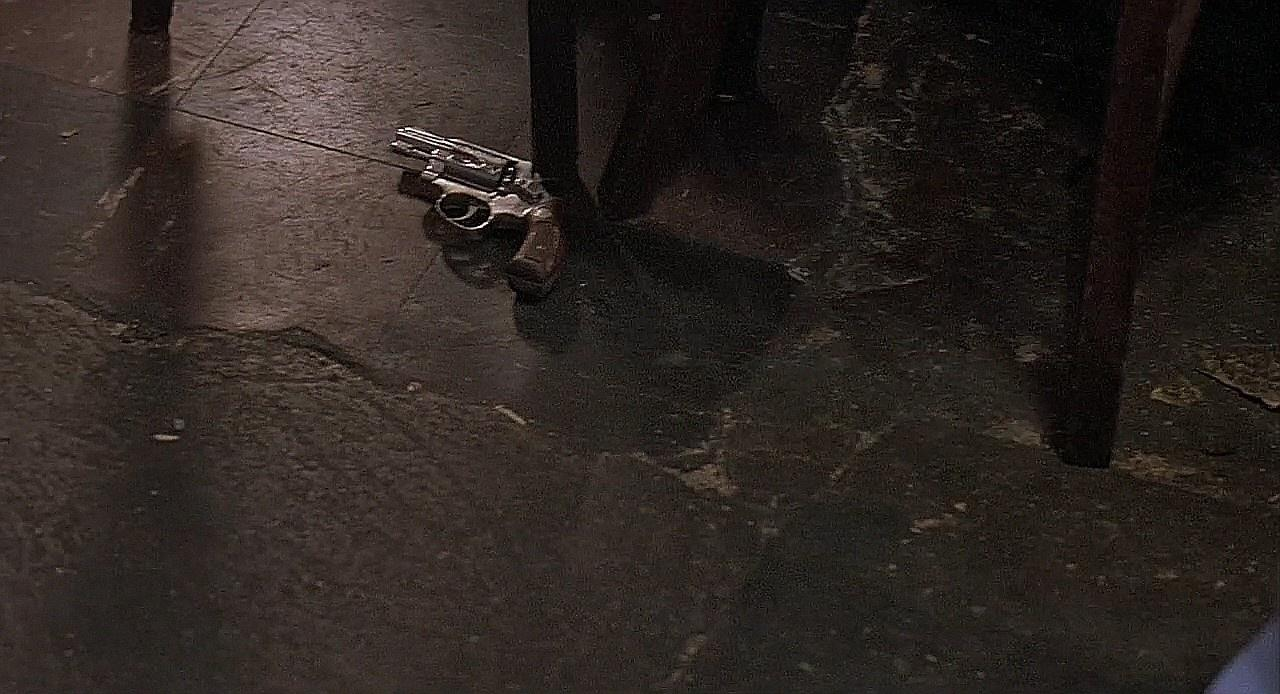gun: (378, 115, 577, 317)
